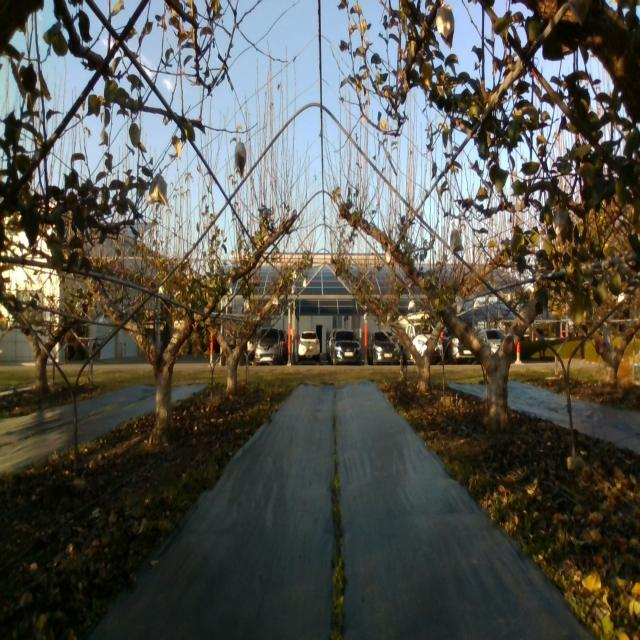pearbags: (552, 202, 572, 246), (435, 4, 454, 49), (147, 174, 169, 208), (234, 143, 247, 177), (450, 230, 463, 254)
